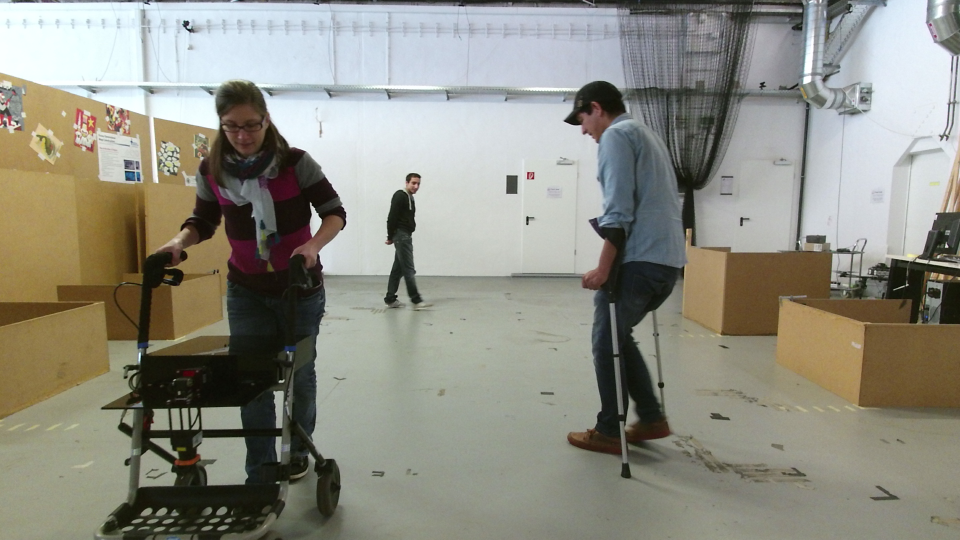crutches: (563, 75, 712, 464)
